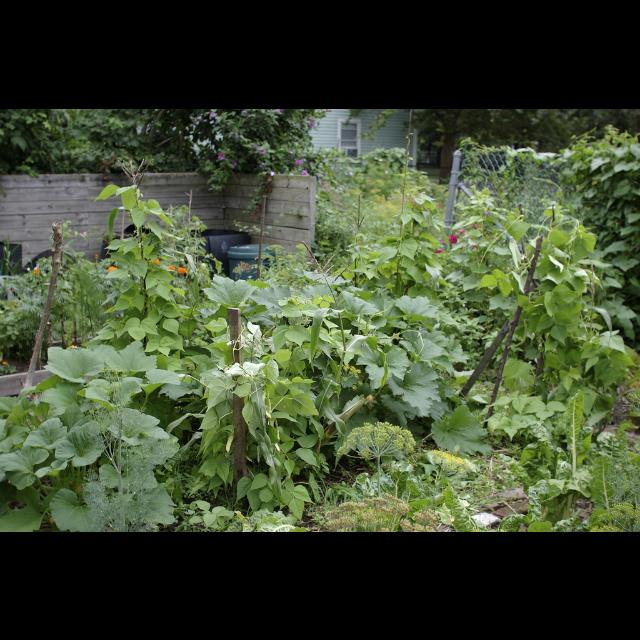Flower: (177, 264, 189, 274), (148, 255, 160, 263), (456, 226, 466, 234), (32, 267, 40, 275), (168, 262, 176, 270), (108, 264, 118, 270), (433, 247, 443, 253), (448, 231, 454, 241), (469, 222, 479, 228), (472, 242, 478, 248)
